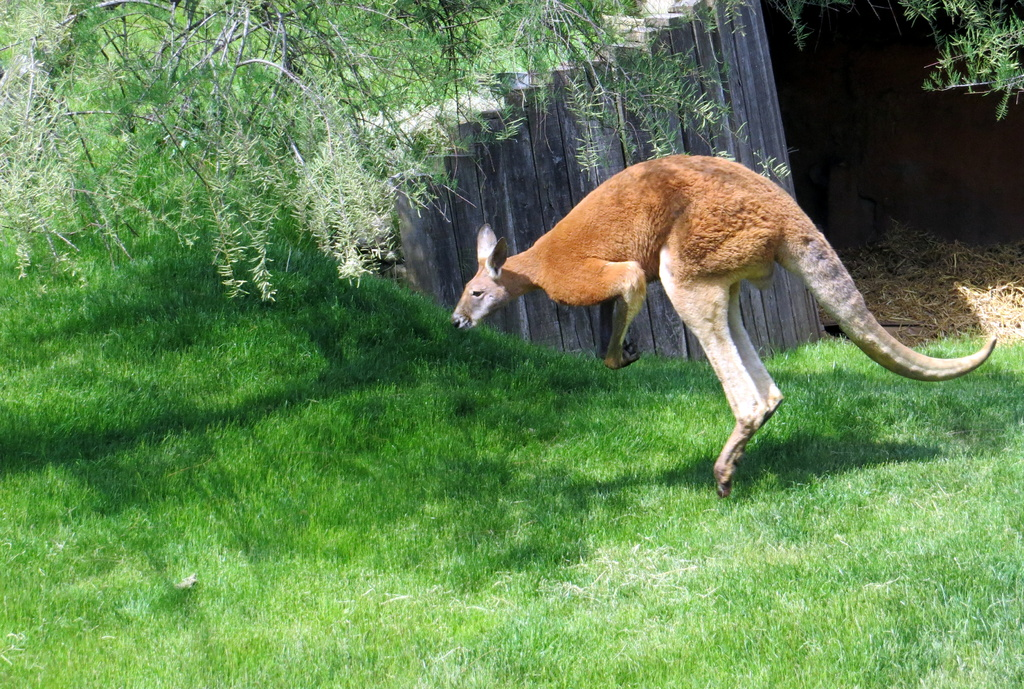kangaroo: (450, 154, 1001, 498)
